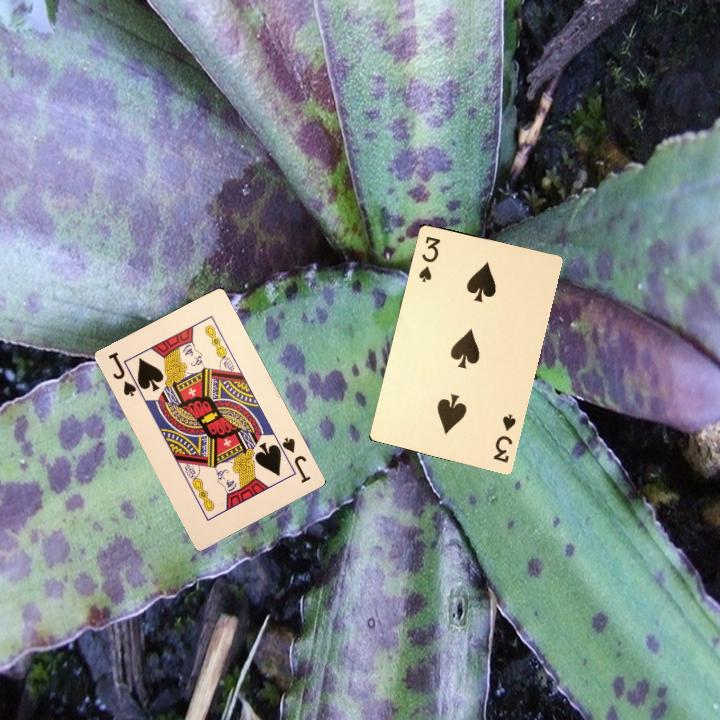3s: (489, 411, 518, 465), (414, 232, 443, 285)
Js: (104, 348, 145, 399), (274, 434, 313, 486)
